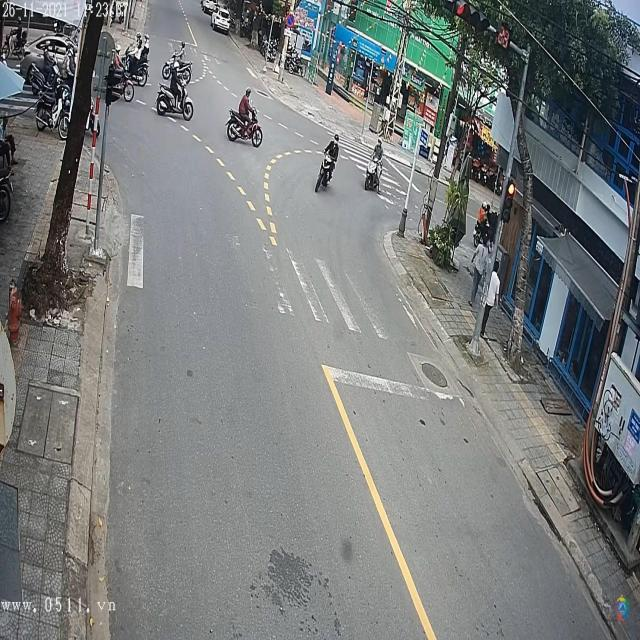motorcycle: (155, 80, 195, 120), (226, 110, 264, 146), (162, 48, 192, 84), (364, 154, 382, 193), (315, 158, 334, 190)
